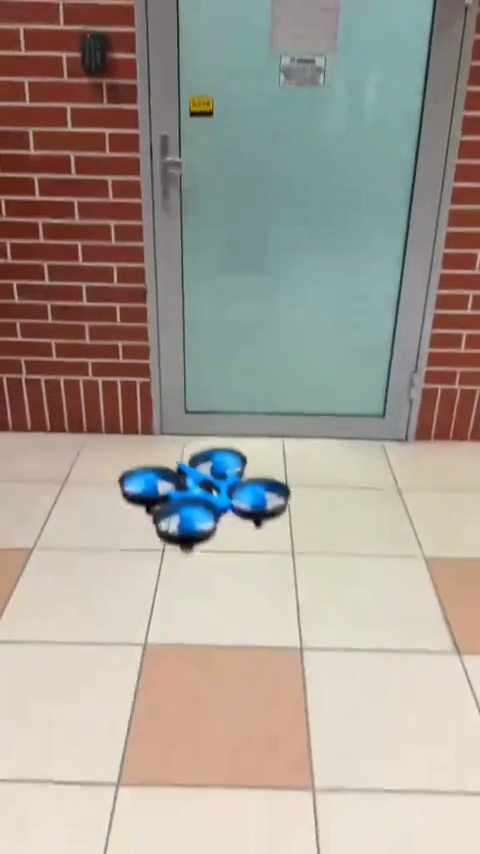drone: (116, 446, 289, 554)
